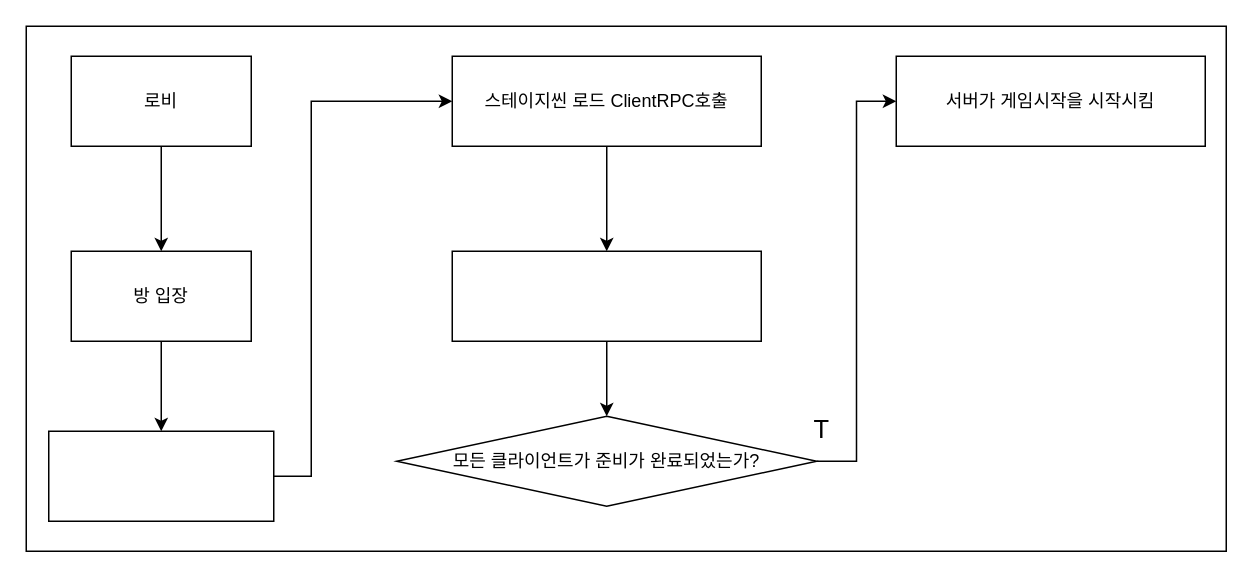
Image size: 1253x578. Some labels were removed from this diagram. The centre of each missing label's shape, as x and y in pixels:
"로드가 완료된 씬은 ServerRpc을 이용해서 서버에게 해당 클라이언트가 로드가 완료되었다고 알림" goes at pixel 606 295.
"방장이 겜 시작을 누름" goes at pixel 160 475.
